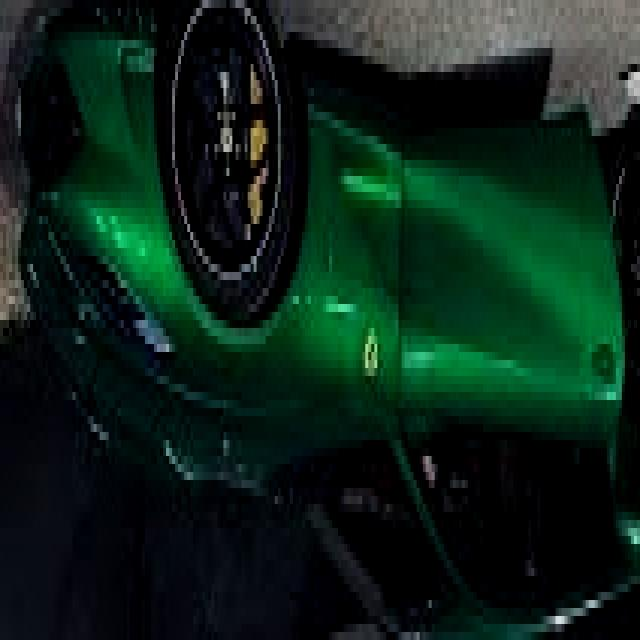green: (15, 0, 640, 640)
